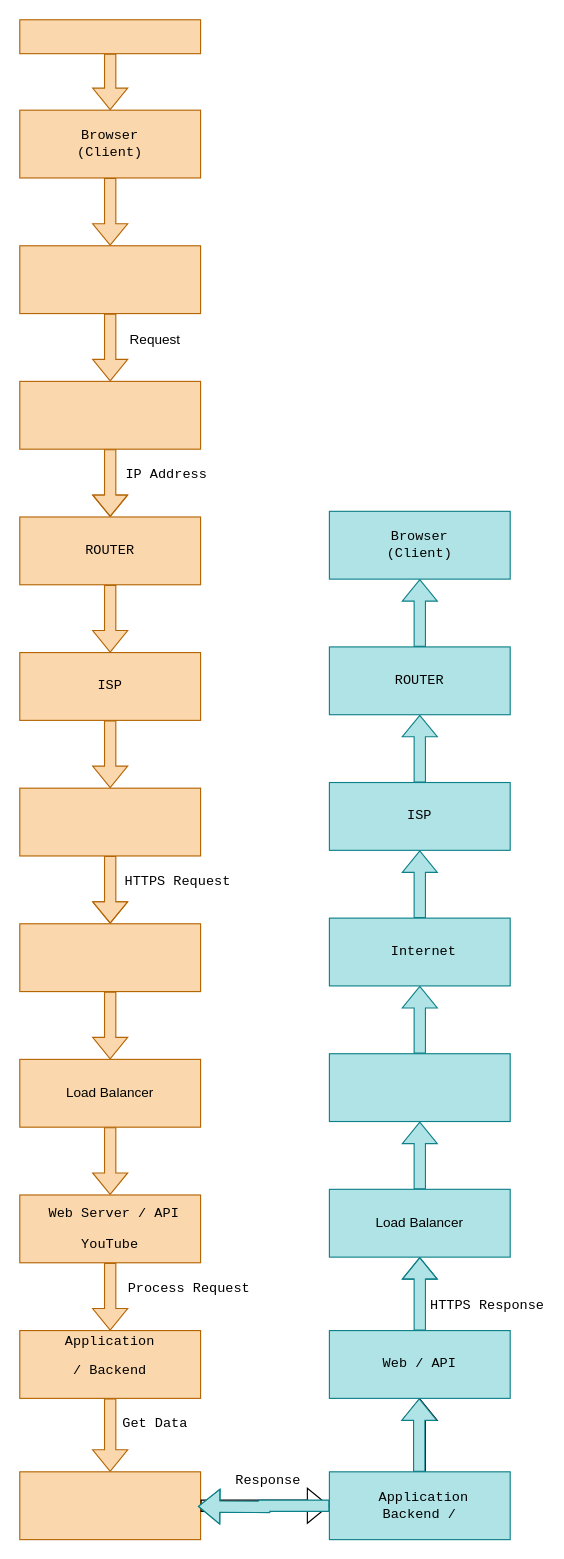
Some shapes in this 564 by 1559 pixel diagram are drawn without their labels. Here are the shapes that lost their labels. From the top down, the centre of each, then its label:
the point at 110,36: User
the point at 110,279: Browser Cach
the point at 110,414: DNS Resolver
the point at 110,821: Internet Routers / Network
the point at 110,957: CDN / EDGE
the point at 419,1087: CDN
the point at 110,1505: Database
